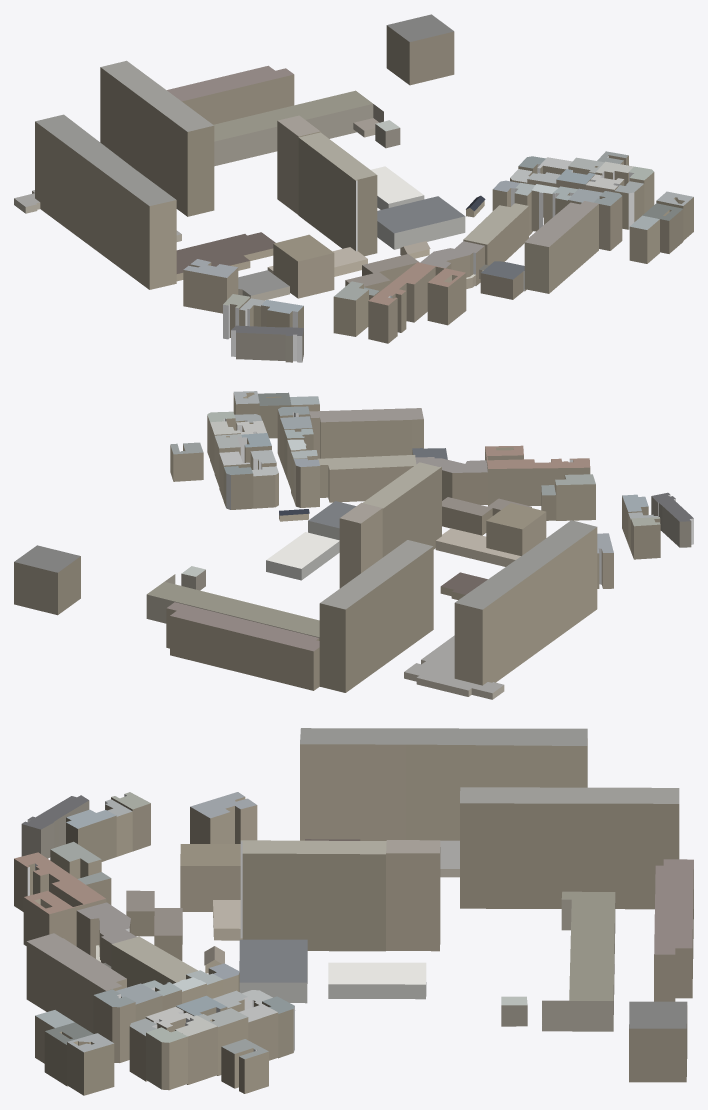
3 views of the same model, one above another, from view 1: azimuth 30°, elevation 25°; view 2: azimuth 150°, elevation 25°; view 3: azimuth 270°, elevation 25° (orthographic). The views are drawn at different scales.
Parts seen in each view (by area): view 1: tuile; view 2: tuile; view 3: tuile.
Part boxes in pixels (left/top/right/bottom): tuile: left=14, top=14, right=693, bottom=362; tuile: left=14, top=391, right=693, bottom=699; tuile: left=14, top=728, right=693, bottom=1095.
Size of the model in its own units: 270 by 47.48 by 271.
